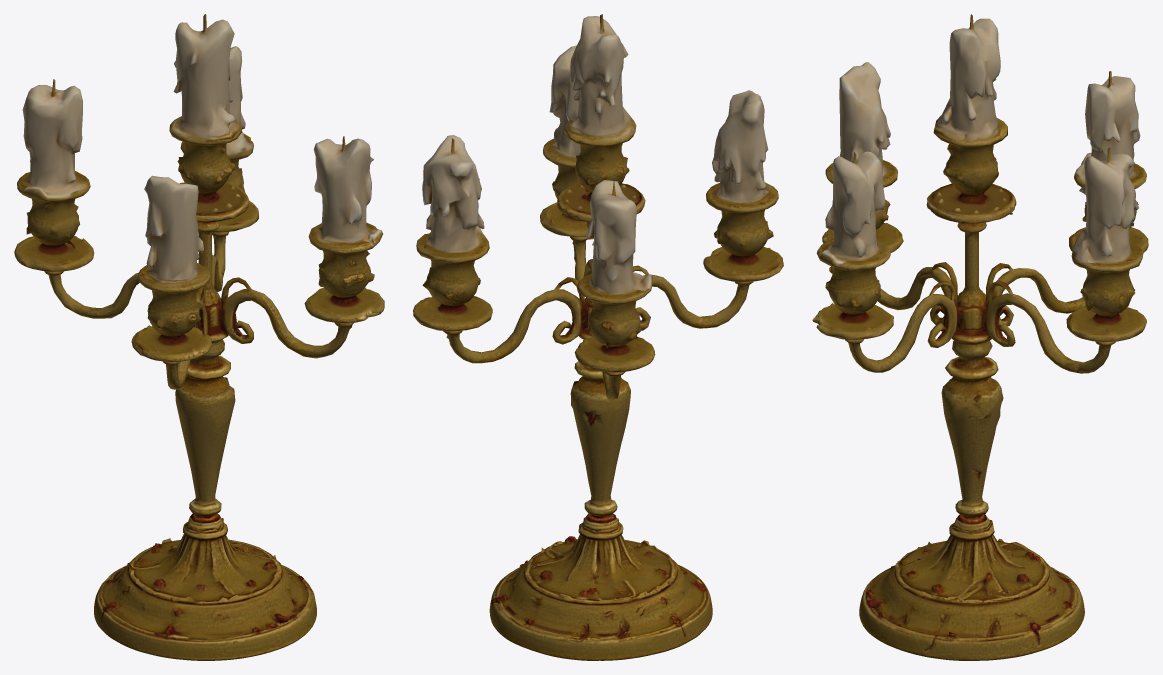
The picture shows the model from 3 angles, left to right: view 1: azimuth 30°, elevation 25°; view 2: azimuth 150°, elevation 25°; view 3: azimuth 270°, elevation 25°; orthographic projection.
Visible parts, largest first — view 1: tripo_node_916b7bbf-6246-4616-b333-efe436fd49b9; view 2: tripo_node_916b7bbf-6246-4616-b333-efe436fd49b9; view 3: tripo_node_916b7bbf-6246-4616-b333-efe436fd49b9.
Boxes of the visible parts, x1,y1,x2,y2 form: tripo_node_916b7bbf-6246-4616-b333-efe436fd49b9: [14, 14, 384, 660]; tripo_node_916b7bbf-6246-4616-b333-efe436fd49b9: [413, 14, 783, 660]; tripo_node_916b7bbf-6246-4616-b333-efe436fd49b9: [812, 14, 1148, 660].
Bounding box in the file's own units: 0.4155 × 1 × 0.5073.
Materials: 1 (1 with a texture image).
